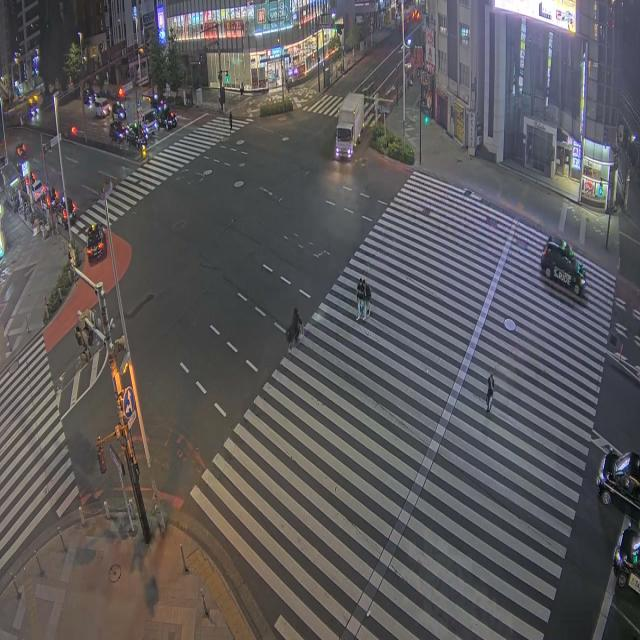car: (541, 237, 585, 295), (613, 525, 639, 593), (86, 224, 105, 261), (53, 197, 77, 226), (126, 123, 148, 148), (157, 104, 176, 130), (141, 108, 159, 135), (109, 121, 126, 142), (112, 101, 126, 121), (33, 181, 46, 201), (83, 86, 95, 107), (16, 143, 26, 158), (29, 104, 39, 119)
truck: (336, 93, 364, 159)
van: (142, 108, 158, 135), (94, 97, 110, 117)
